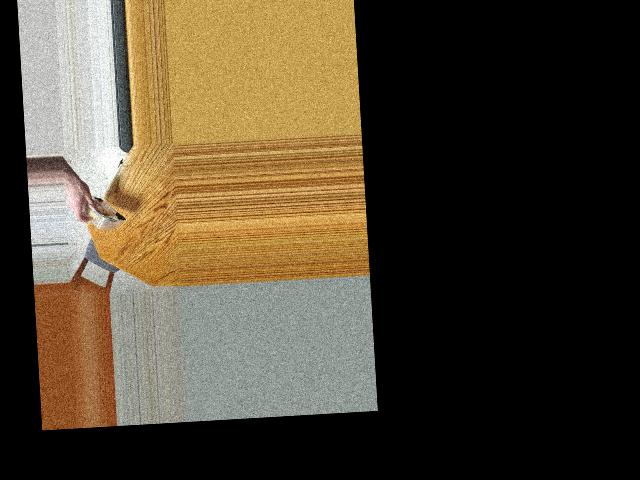cheese: (79, 188, 121, 241)
